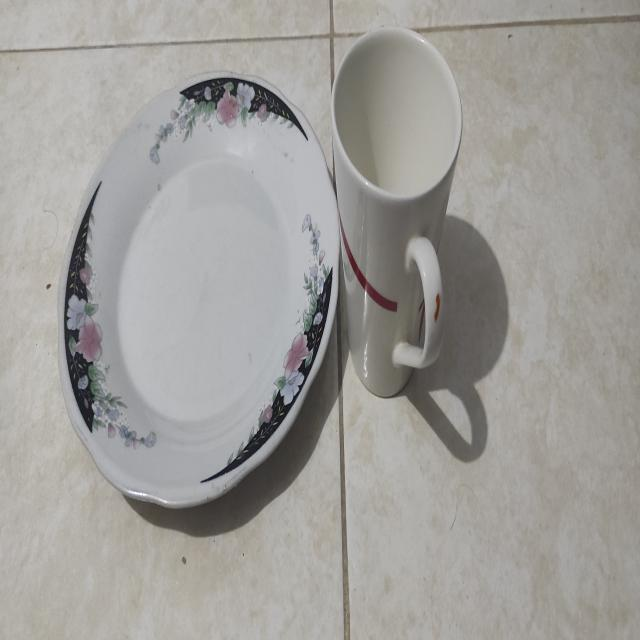non-organic waste: (54, 60, 350, 506)
